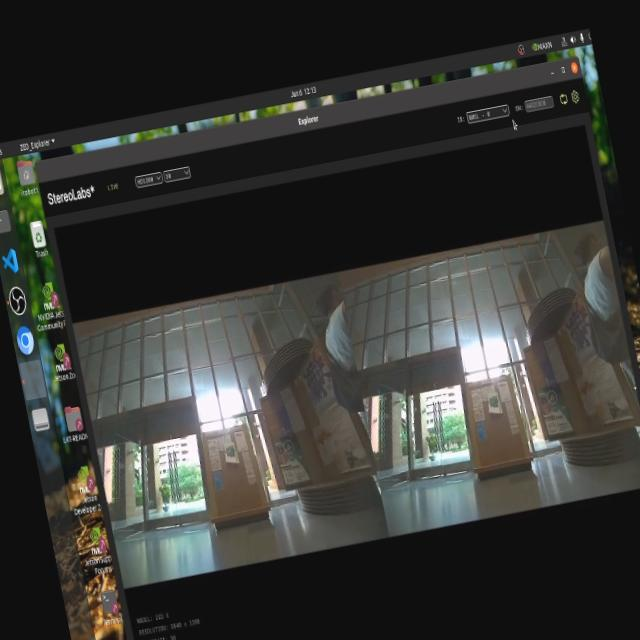green: (218, 438, 238, 467), (484, 392, 505, 412)
